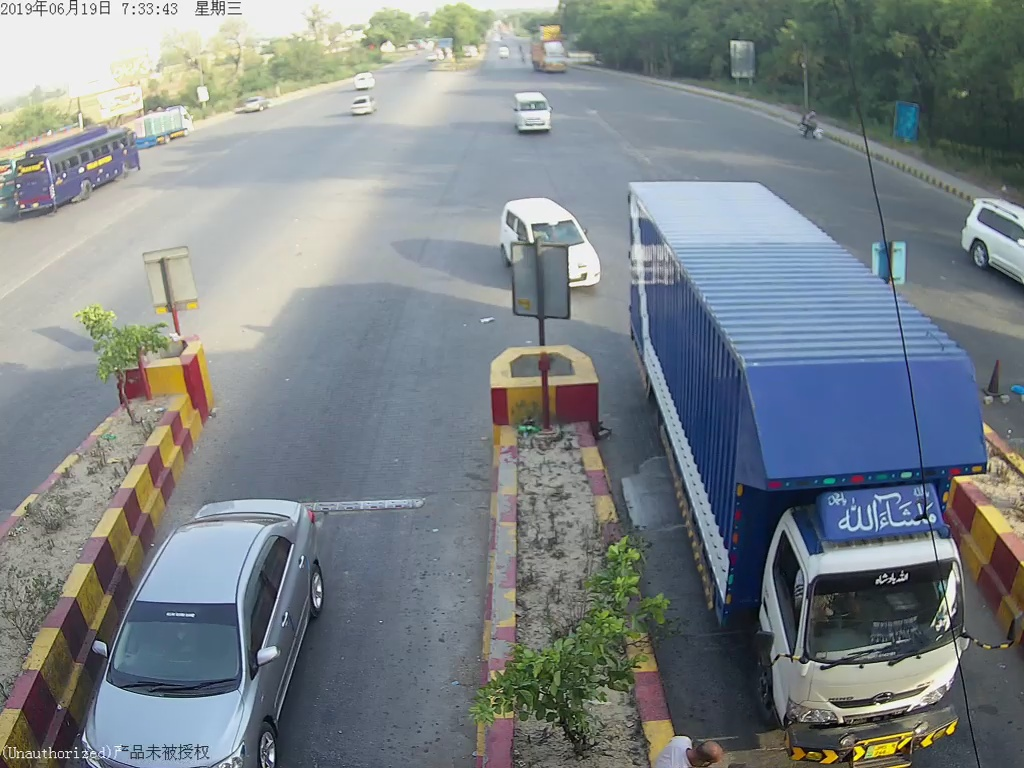Cat-2: (88, 578, 309, 746), (507, 91, 562, 134)
Cat-4: (631, 185, 990, 759)
